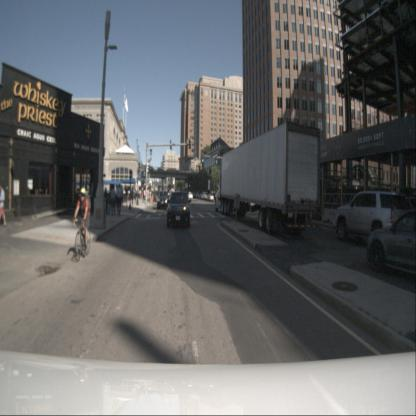human-pedestrian-adult: (0, 184, 7, 229), (116, 183, 123, 217), (110, 184, 116, 216), (130, 187, 134, 208), (125, 185, 128, 207)
movable_object-trafficcone: (150, 195, 152, 204)
vehicle-bicycle: (74, 186, 90, 260)
vehicle-car: (336, 190, 414, 241), (365, 209, 416, 274), (166, 192, 190, 226), (157, 190, 168, 209), (206, 193, 214, 202), (200, 192, 208, 200), (186, 192, 193, 200)
vehicle-truck: (214, 166, 233, 216)
